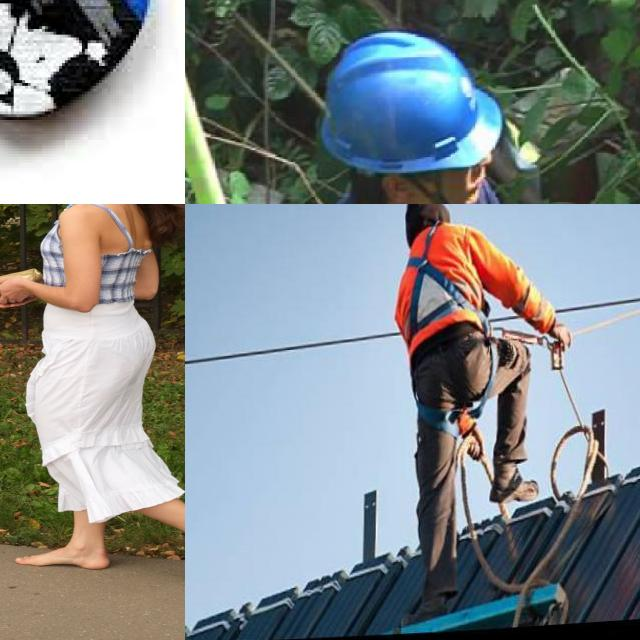Barefoots: (15, 548, 110, 570)
Harness: (407, 226, 465, 336)
No_Ear-Protection: (378, 166, 412, 204)
Sandals: (0, 0, 185, 189)
face_nomask: (441, 160, 490, 204)
head_helmet: (322, 32, 503, 174)
